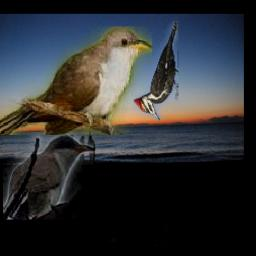Cuckoo: (0, 27, 153, 136), (3, 132, 94, 220)
Woodpecker: (134, 16, 179, 121)
